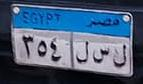3: (22, 35, 33, 57)
4: (51, 36, 60, 61)
5: (37, 39, 49, 57)
laam: (113, 44, 127, 68), (76, 41, 89, 63)
seen: (92, 47, 110, 63)
